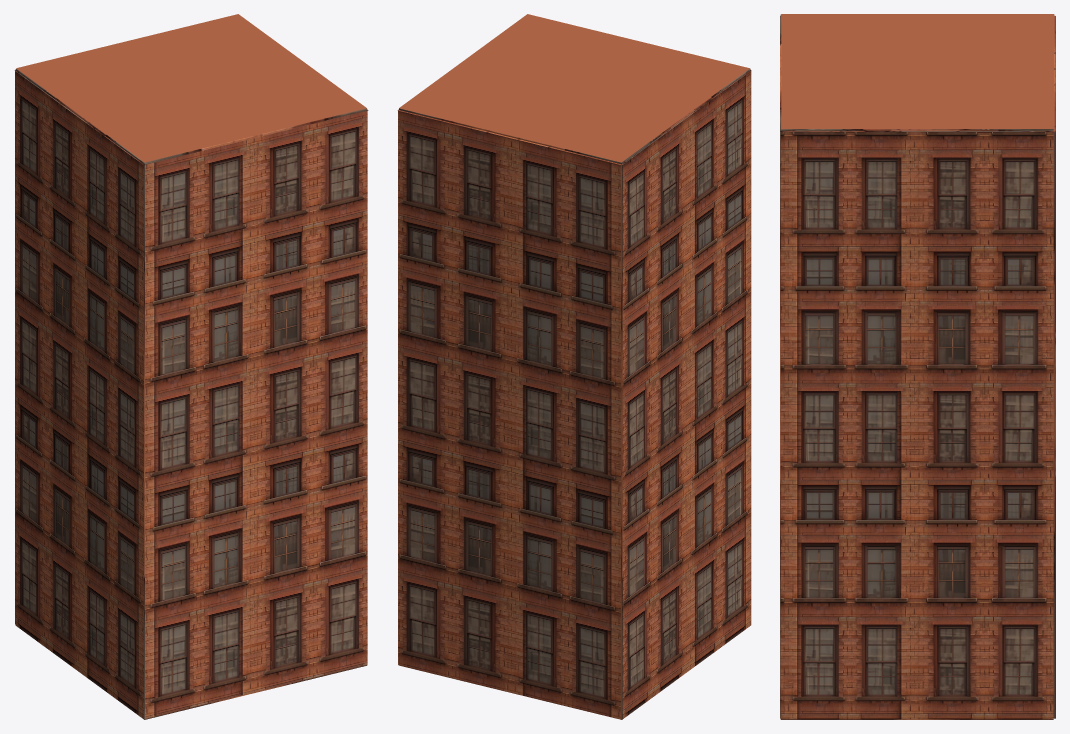
The model's file is Edificio3.obj.
3 views of the same model, side by side, from view 1: azimuth 30°, elevation 25°; view 2: azimuth 150°, elevation 25°; view 3: azimuth 270°, elevation 25° (orthographic). The views are drawn at different scales.
Visible parts, largest first — view 1: Edificio_SinDiseno:polySurface4; view 2: Edificio_SinDiseno:polySurface4; view 3: Edificio_SinDiseno:polySurface4.
Boxes of the visible parts, x1,y1,x2,y2 form: Edificio_SinDiseno:polySurface4: (14,14,368,719); Edificio_SinDiseno:polySurface4: (397,14,751,719); Edificio_SinDiseno:polySurface4: (780,14,1055,719).
Bounding box in the file's own units: 3.91 × 9.28 × 3.92.
1 material, 1 textured.
